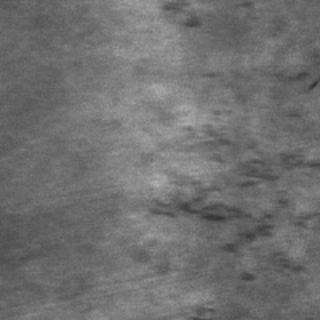rolled pit: (148, 118, 318, 280), (160, 0, 212, 28)
